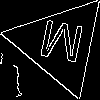M: (35, 19, 87, 73)
